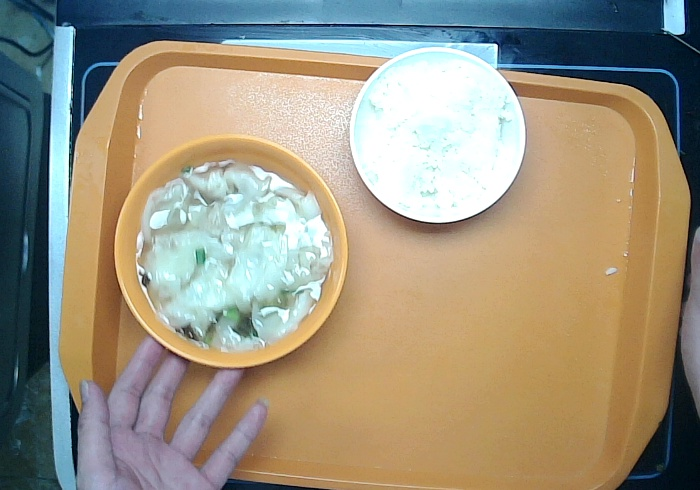NLDX-Fan_Wan: (342, 45, 538, 239)
NLDX-Hun_Tun_Wan: (100, 135, 351, 384)
